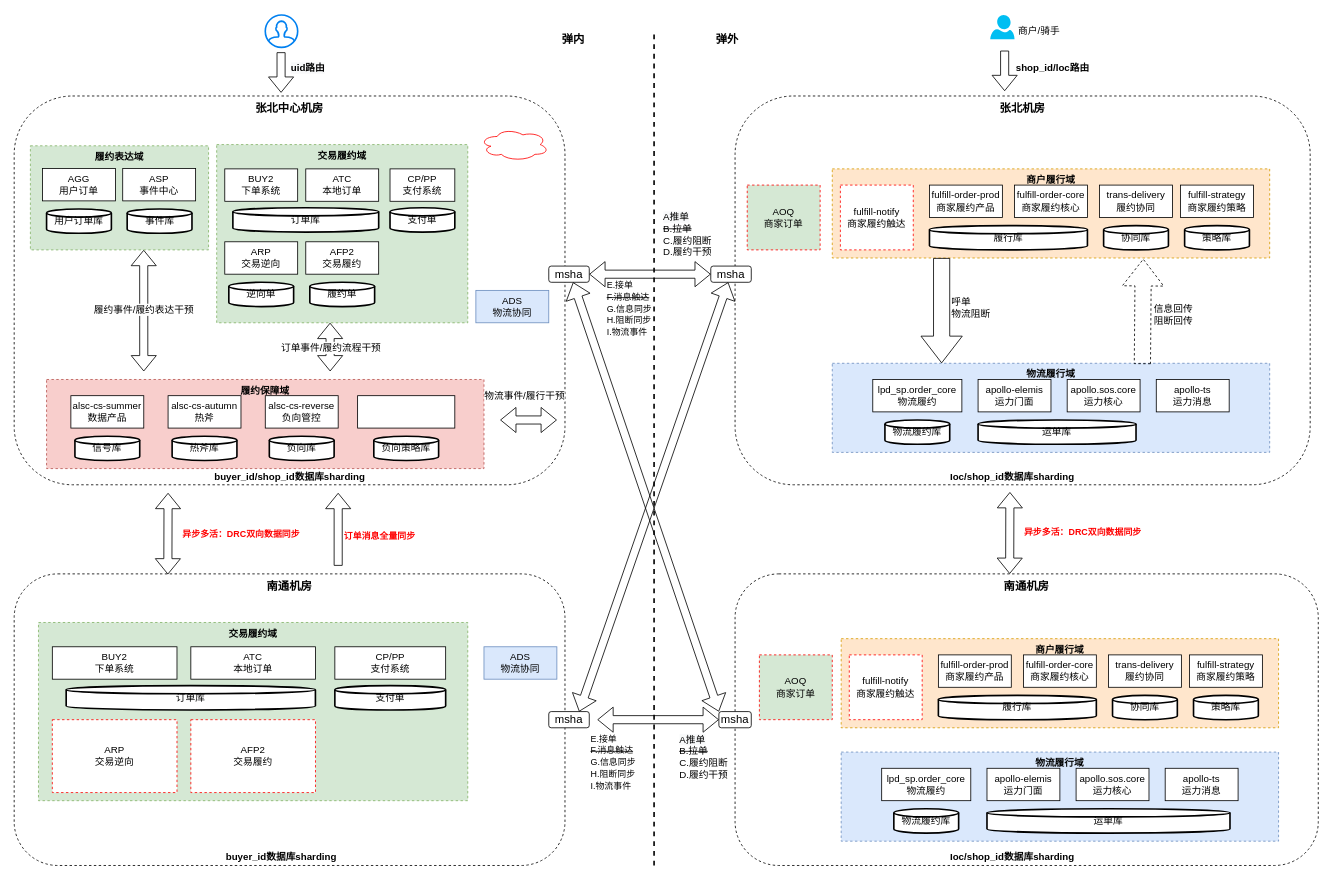
This 1332x880 diagram has some shape labels left out. Each missing label, with the centre of its shape:
"alsc-cs-reverseboard 负向管控管理" belongs at [406,411].
"dove" belongs at [514,144].
